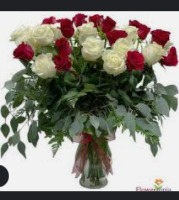RedRose: (13, 39, 33, 63), (126, 49, 146, 71), (150, 28, 173, 45), (53, 36, 72, 55), (54, 51, 72, 71), (163, 48, 179, 68)
